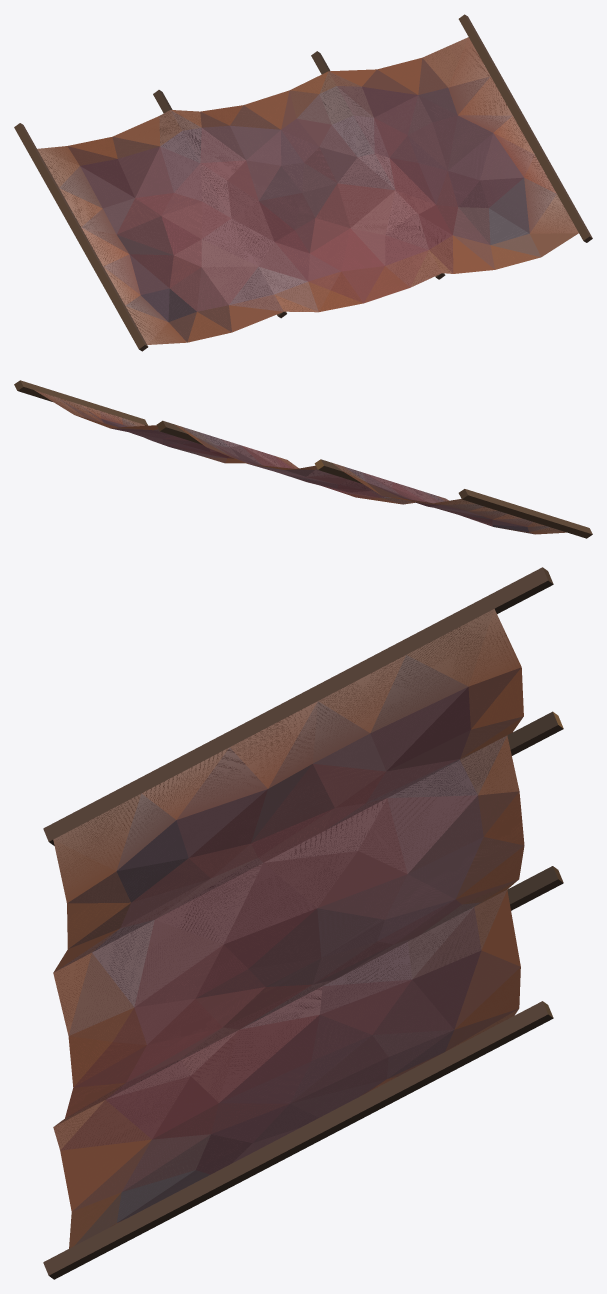
File: Prop_OverhangI.fbx
3 views of the same model, one above another, from view 1: azimuth 30°, elevation 25°; view 2: azimuth 150°, elevation 25°; view 3: azimuth 270°, elevation 25° (orthographic). The views are drawn at different scales.
Parts seen in each view (by area): view 1: Prop_OverhangI; view 2: Prop_OverhangI; view 3: Prop_OverhangI.
Part boxes in pixels (x1,y1,x2,y2): Prop_OverhangI: (14, 14, 592, 351); Prop_OverhangI: (14, 380, 592, 538); Prop_OverhangI: (43, 567, 563, 1279).
Bounding box in the file's own units: 500 × 158 × 248.
